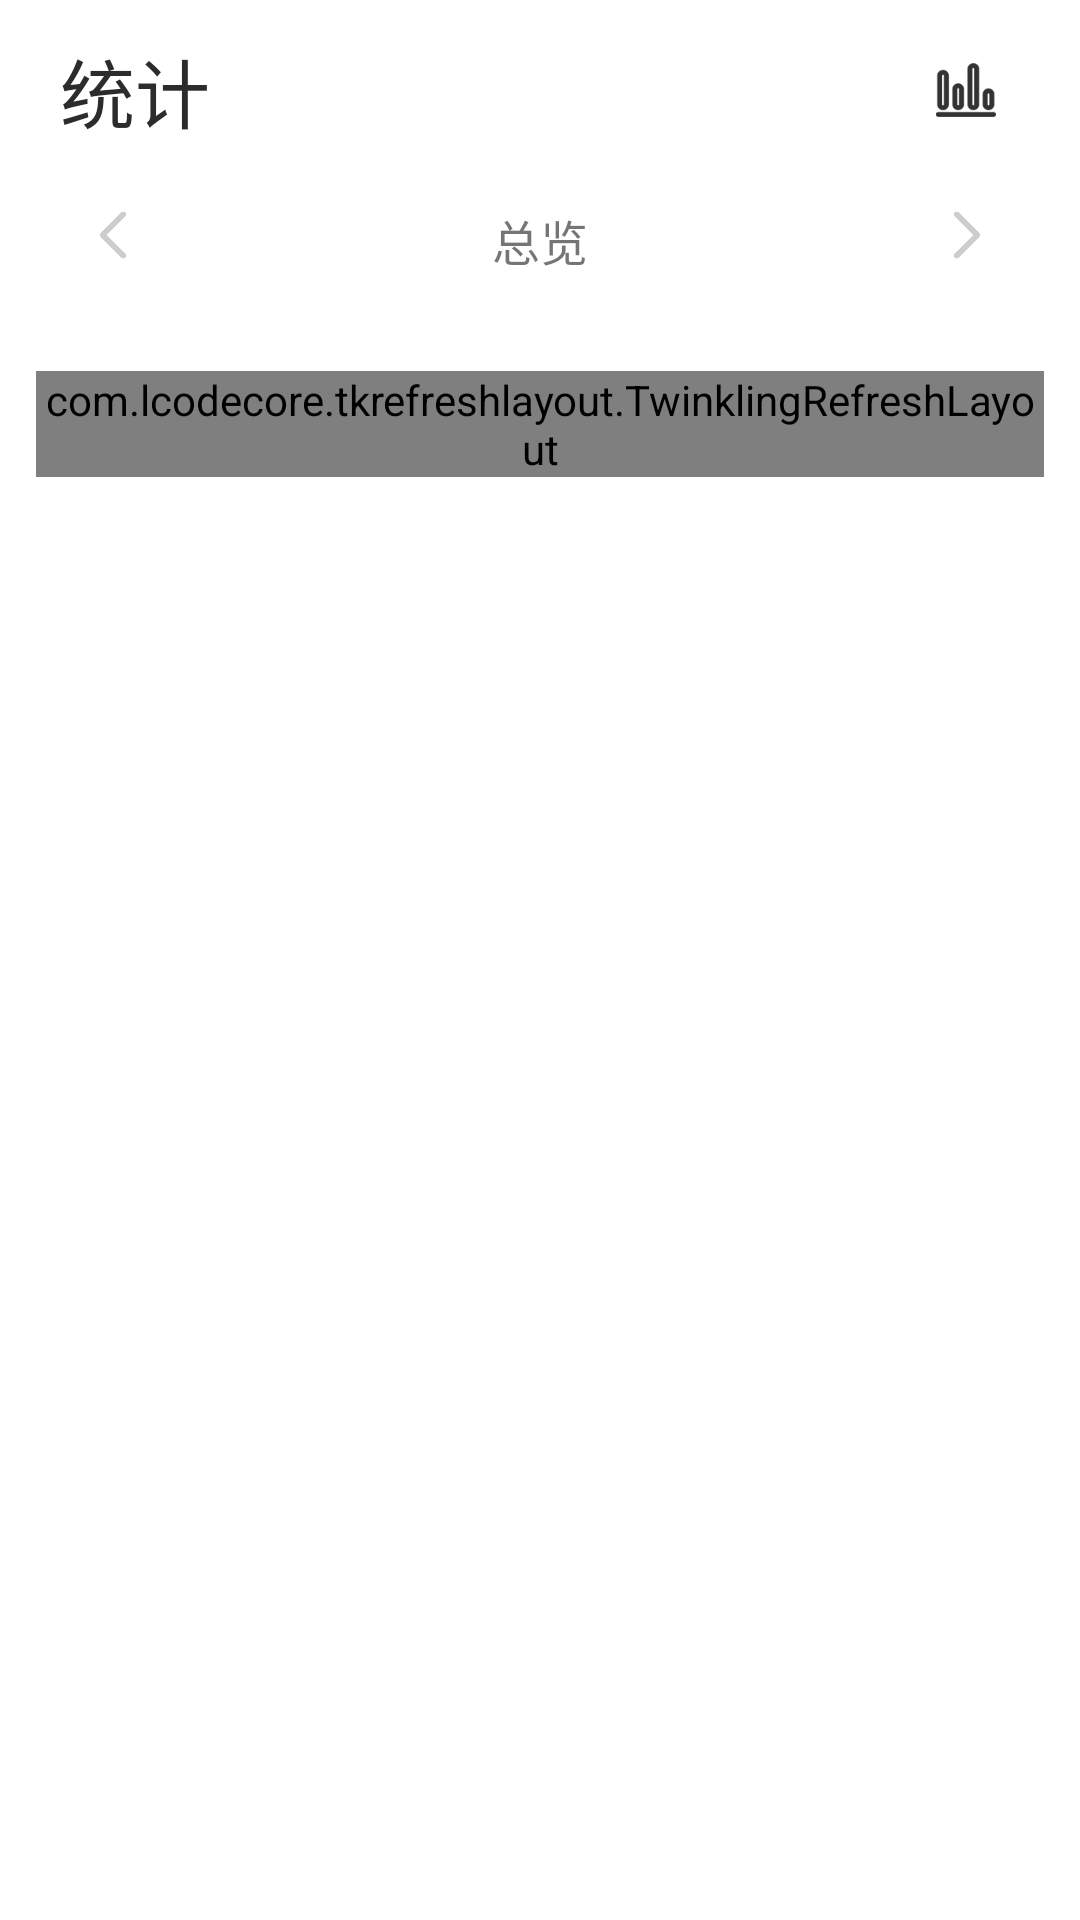

Screen size 1080 x 1920. Icon name, then its center in pixels as (x=x, y=y):
analyze: (x=966, y=90)
to left: (x=113, y=235)
to right: (x=967, y=235)
